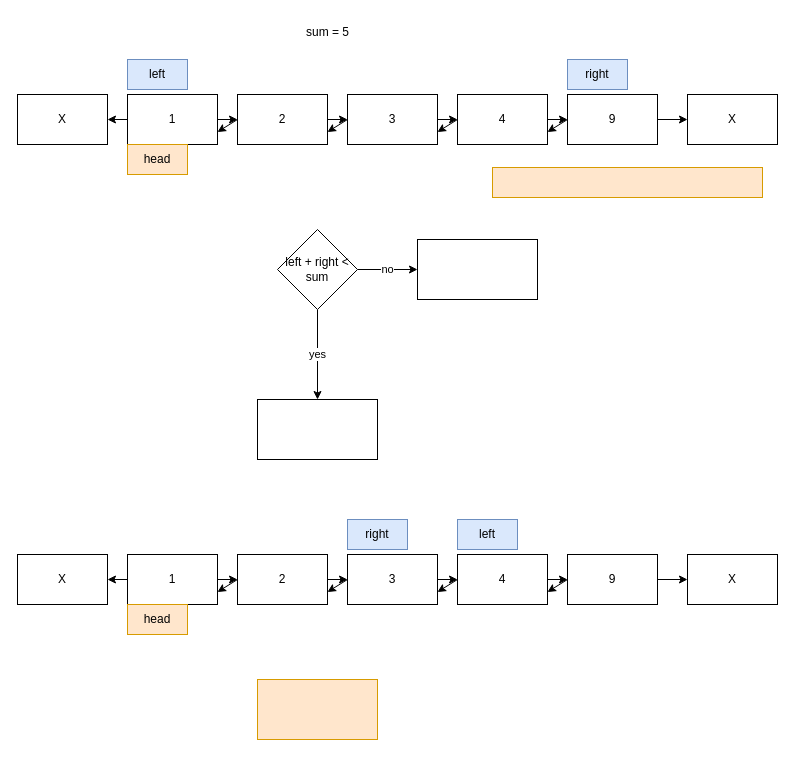
This 795x757 diagram has some shape labels left out. Each missing label, with the centre of its shape:
"decrement the right pointer" belongs at (x=477, y=269).
"increment the left pointer" belongs at (x=317, y=429).
"stop the loop when left crosses hte right" belongs at (x=317, y=709).
"store the pair of left, right whse sum is == sum" belongs at (x=627, y=182).
